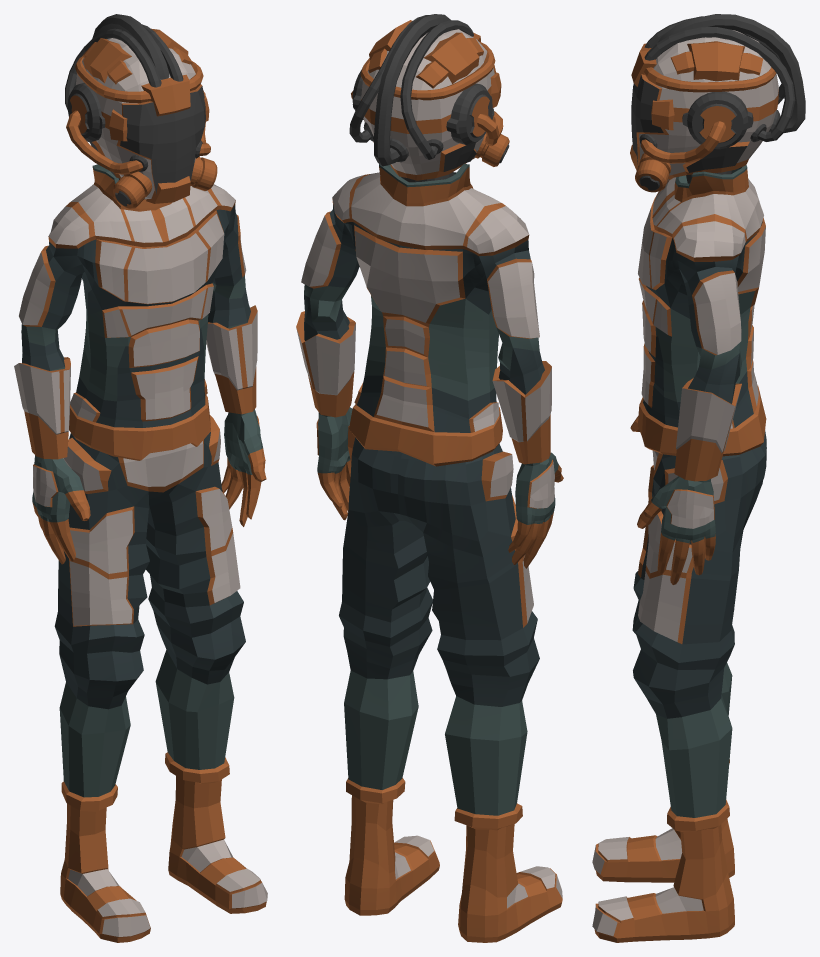
File: astronaut.glb
3 renders of one model, left to right at view 1: azimuth 30°, elevation 25°; view 2: azimuth 150°, elevation 25°; view 3: azimuth 270°, elevation 25°, orthographic. The views are drawn at different scales.
Visible parts, largest first — view 1: SpaceSuit_Body, SpaceSuit_Legs, SpaceSuit_Head, SpaceSuit_Feet; view 2: SpaceSuit_Body, SpaceSuit_Legs, SpaceSuit_Head, SpaceSuit_Feet; view 3: SpaceSuit_Body, SpaceSuit_Legs, SpaceSuit_Head, SpaceSuit_Feet.
Boxes of the visible parts, box(x1,y1,x2,y2) form: SpaceSuit_Body: box(14, 164, 266, 564); SpaceSuit_Legs: box(54, 415, 245, 811); SpaceSuit_Head: box(65, 14, 217, 208); SpaceSuit_Feet: box(60, 776, 267, 942); SpaceSuit_Body: box(296, 163, 563, 568); SpaceSuit_Legs: box(339, 425, 539, 830); SpaceSuit_Head: box(349, 14, 509, 182); SpaceSuit_Feet: box(344, 795, 562, 942); SpaceSuit_Body: box(630, 165, 766, 584); SpaceSuit_Legs: box(632, 430, 766, 831); SpaceSuit_Head: box(630, 14, 805, 192); SpaceSuit_Feet: box(592, 818, 734, 942).
Bounding box in the file's own units: 0.5398 × 1.88 × 0.409.
